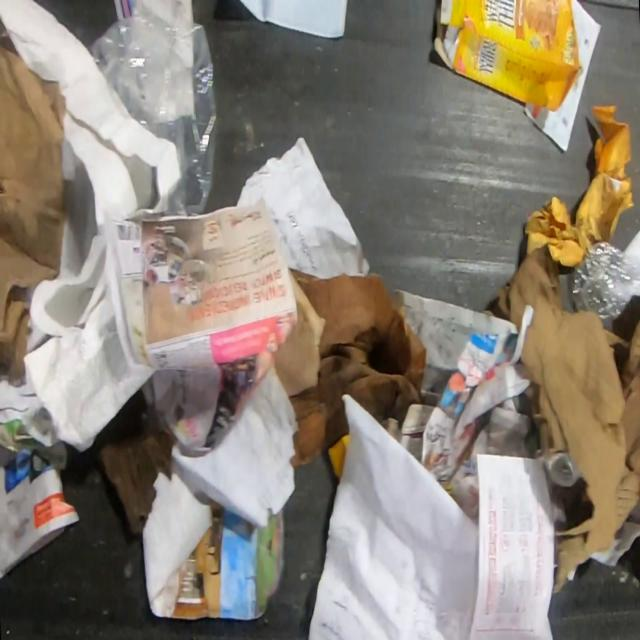cardboard: (480, 243, 640, 594), (288, 268, 428, 465), (0, 42, 69, 378), (433, 0, 584, 113), (95, 426, 175, 537)
rigid_plastic: (571, 240, 640, 336)
soft_plastic: (88, 12, 217, 216)
